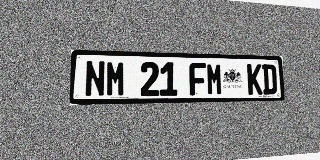1: (159, 62, 177, 96)
2: (141, 62, 159, 96)
D: (262, 64, 277, 94)
F: (189, 63, 206, 95)
K: (247, 64, 263, 95)
M: (106, 61, 126, 97), (206, 63, 223, 95)
N: (85, 60, 105, 97)
